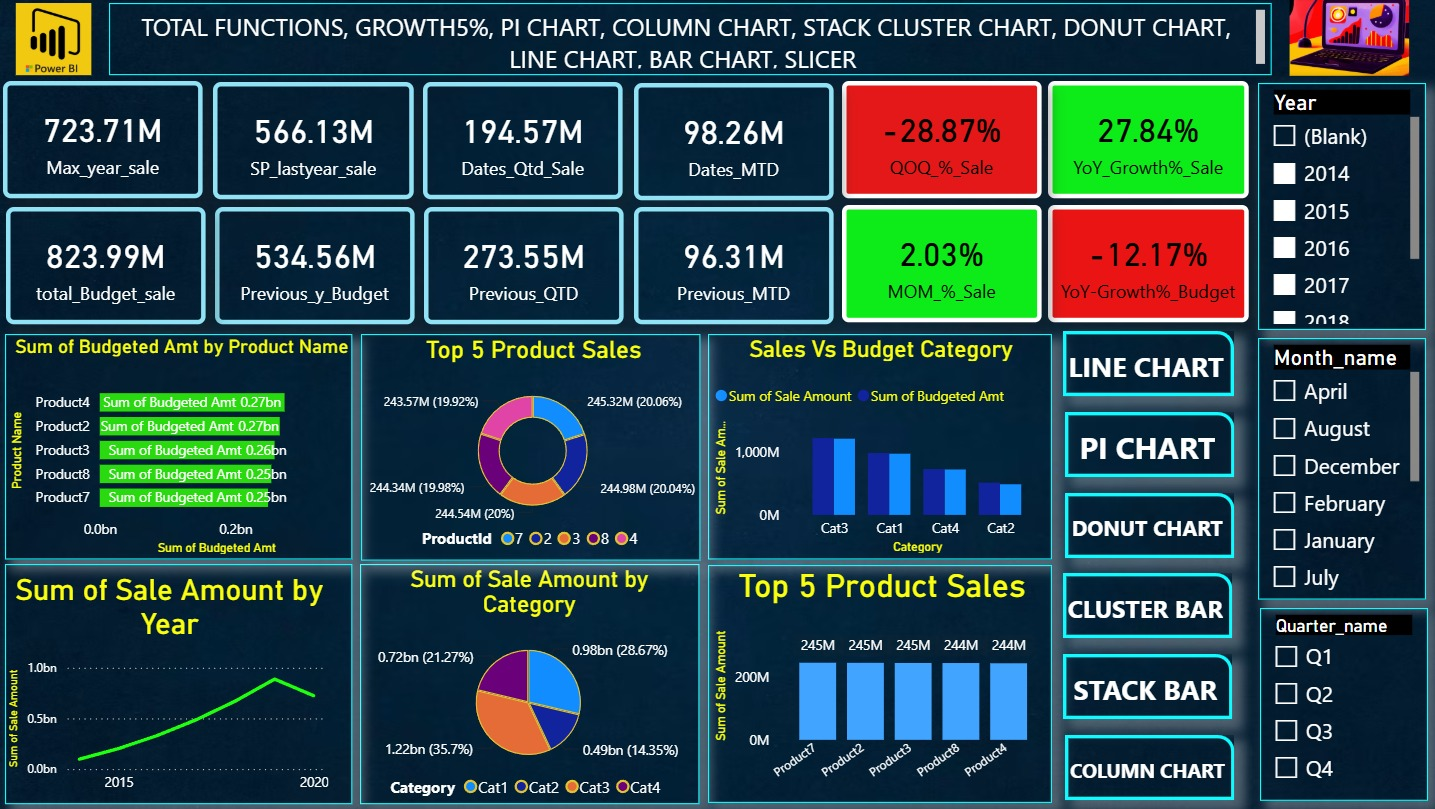

The dashboard page shown, as its layout file describes it:
{"tool":"powerbi","page":{"name":"Page 1","canvas":[1280,720],"ordinal":0},"visuals":[{"type":"card","fields":{"Values":["Budget.Max_year"]},"box":[5.6,73.3,176.7,104.4],"z":0},{"type":"card","fields":{"Values":["Budget.Previous_year"]},"box":[191.1,74.4,177.8,104.4],"z":1000},{"type":"card","fields":{"Values":["Budget.YoY_Growth%_Sale"]},"box":[932.2,73.3,177.8,104.4],"z":2000},{"type":"card","fields":{"Values":["Budget.Previous_y_Budget"]},"box":[193.3,185.6,176.7,104.4],"z":3000},{"type":"card","fields":{"Values":["Budget.total_Budget_sale"]},"box":[7.8,185.6,176.7,104.4],"z":4000},{"type":"card","fields":{"Values":["Budget.YoY-Growth%_Budget"]},"box":[932.2,183.3,177.8,104.4],"z":5000},{"type":"slicer","fields":{"Values":["date_dim.Year"]},"box":[1117.8,75.6,148.9,218.9],"z":6000},{"type":"card","fields":{"Values":["Budget.Dates_Qtd_Sale"]},"box":[377.8,74.4,176.7,104.4],"z":7000},{"type":"card","fields":{"Values":["Budget.QOQ"]},"box":[378.9,185.6,176.7,104.4],"z":8000},{"type":"card","fields":{"Values":["Budget.QOQ_%_Sale"]},"box":[748.9,73.3,176.7,104.4],"z":9000},{"type":"card","fields":{"Values":["Budget.Dates_MTD"]},"box":[564.4,75.6,176.7,104.4],"z":10000},{"type":"card","fields":{"Values":["Budget.Previous_MTD"]},"box":[564.4,185.6,176.7,104.4],"z":11000},{"type":"card","fields":{"Values":["Budget.MOM_%_Sale"]},"box":[748.9,183.3,176.7,104.4],"z":12000},{"type":"clusteredColumnChart","title":"Sales Vs Budget Category","fields":{"Y":["Sum(Sales.Sale Amount)","Sum(Budget.Budgeted Amt)"],"Category":["Product Master.Category"]},"box":[630.4,297.9,305,200.4],"z":13000},{"type":"pieChart","fields":{"Y":["Sum(Sales.Sale Amount)"],"Category":["Product Master.Category","date_dim.Year","date_dim.Date.Variation.Date Hierarchy.Year","date_dim.Date.Variation.Date Hierarchy.Quarter","date_dim.Date.Variation.Date Hierarchy.Month","date_dim.Date.Variation.Date Hierarchy.Day"]},"box":[321.9,501.9,301.5,212.8],"z":14000},{"type":"columnChart","title":"Top 5 Product Sales","fields":{"Category":["Product Master.Product Name"],"Y":["Sum(Sales.Sale Amount)"]},"box":[630.4,502.8,305,211],"z":15000},{"type":"clusteredBarChart","fields":{"Category":["Product Master.Product Name"],"Y":["Sum(Budget.Budgeted Amt)"]},"box":[7.1,297.9,307.7,200.4],"z":16000},{"type":"donutChart","title":"Top 5 Product Sales","fields":{"Y":["Sum(Sales.Sale Amount)"],"Category":["Sales.ProductId"]},"box":[322.8,297.9,301.5,201.3],"z":17000},{"type":"lineChart","fields":{"Category":["date_dim.Year","date_dim.Month","date_dim.Quarter_name"],"Y":["Sum(Sales.Sale Amount)"]},"box":[7.1,501.9,307.7,212.8],"z":18000},{"type":"actionButton","box":[945.6,295.6,151.6,57.7],"z":19000},{"type":"actionButton","box":[946.7,367.1,150.3,57.7],"z":20000},{"type":"actionButton","box":[946.7,438.7,150.3,57.7],"z":21000},{"type":"actionButton","box":[945.6,510.2,150.3,57.7],"z":22000},{"type":"actionButton","box":[945.6,581.8,150.3,57.7],"z":23000},{"type":"actionButton","box":[946.7,653.3,150.3,57.7],"z":24000},{"type":"slicer","fields":{"Values":["date_dim.Month_name"]},"box":[1117.8,301.1,148.9,232.2],"z":25000},{"type":"slicer","fields":{"Values":["date_dim.Quarter_name"]},"box":[1120,541.1,148.9,171.1],"z":26000},{"type":"image","box":[2.2,4.4,94.4,64.4],"z":27000},{"type":"image","box":[1117.8,0,162.2,68.9],"z":28000},{"type":"textbox","box":[98.9,4.4,1031.1,64.4],"z":29000}]}

Visuals, with their boxes in screenshot pixels (x1, y1, x2, y2), scaled from the page's 1280x720 canvas onto the 1435x809 screenshot:
card - Budget.Max_year: {"left": 6, "top": 82, "right": 204, "bottom": 200}
card - Budget.Previous_year: {"left": 214, "top": 84, "right": 414, "bottom": 201}
card - Budget.YoY_Growth%_Sale: {"left": 1045, "top": 82, "right": 1244, "bottom": 200}
card - Budget.Previous_y_Budget: {"left": 217, "top": 209, "right": 415, "bottom": 326}
card - Budget.total_Budget_sale: {"left": 9, "top": 209, "right": 207, "bottom": 326}
card - Budget.YoY-Growth%_Budget: {"left": 1045, "top": 206, "right": 1244, "bottom": 323}
slicer - date_dim.Year: {"left": 1253, "top": 85, "right": 1420, "bottom": 331}
card - Budget.Dates_Qtd_Sale: {"left": 424, "top": 84, "right": 622, "bottom": 201}
card - Budget.QOQ: {"left": 425, "top": 209, "right": 623, "bottom": 326}
card - Budget.QOQ_%_Sale: {"left": 840, "top": 82, "right": 1038, "bottom": 200}
card - Budget.Dates_MTD: {"left": 633, "top": 85, "right": 831, "bottom": 202}
card - Budget.Previous_MTD: {"left": 633, "top": 209, "right": 831, "bottom": 326}
card - Budget.MOM_%_Sale: {"left": 840, "top": 206, "right": 1038, "bottom": 323}
"Sales Vs Budget Category" clusteredColumnChart: {"left": 707, "top": 335, "right": 1049, "bottom": 560}
pieChart - Sum(Sales.Sale Amount) x Product Master.Category: {"left": 361, "top": 564, "right": 699, "bottom": 803}
"Top 5 Product Sales" columnChart: {"left": 707, "top": 565, "right": 1049, "bottom": 802}
clusteredBarChart - Product Master.Product Name x Sum(Budget.Budgeted Amt): {"left": 8, "top": 335, "right": 353, "bottom": 560}
"Top 5 Product Sales" donutChart: {"left": 362, "top": 335, "right": 700, "bottom": 561}
lineChart - date_dim.Year x date_dim.Month: {"left": 8, "top": 564, "right": 353, "bottom": 803}
actionButton: {"left": 1060, "top": 332, "right": 1230, "bottom": 397}
actionButton: {"left": 1061, "top": 412, "right": 1230, "bottom": 477}
actionButton: {"left": 1061, "top": 493, "right": 1230, "bottom": 558}
actionButton: {"left": 1060, "top": 573, "right": 1229, "bottom": 638}
actionButton: {"left": 1060, "top": 654, "right": 1229, "bottom": 719}
actionButton: {"left": 1061, "top": 734, "right": 1230, "bottom": 799}
slicer - date_dim.Month_name: {"left": 1253, "top": 338, "right": 1420, "bottom": 599}
slicer - date_dim.Quarter_name: {"left": 1256, "top": 608, "right": 1423, "bottom": 800}
image: {"left": 2, "top": 5, "right": 108, "bottom": 77}
image: {"left": 1253, "top": 0, "right": 1434, "bottom": 77}
textbox: {"left": 111, "top": 5, "right": 1267, "bottom": 77}
